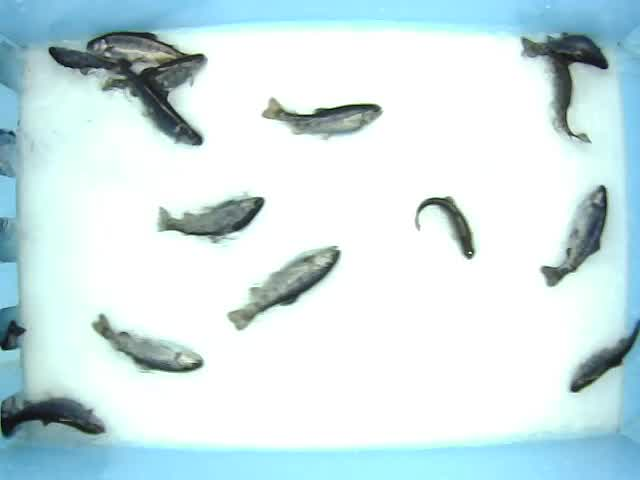fish: (226, 242, 343, 330), (90, 310, 205, 374), (540, 183, 610, 288), (116, 64, 203, 148), (157, 195, 265, 245), (260, 95, 383, 137), (101, 49, 206, 95), (412, 193, 476, 261), (3, 396, 109, 437), (85, 31, 201, 62), (519, 31, 611, 69), (549, 61, 591, 144), (47, 48, 128, 74)
